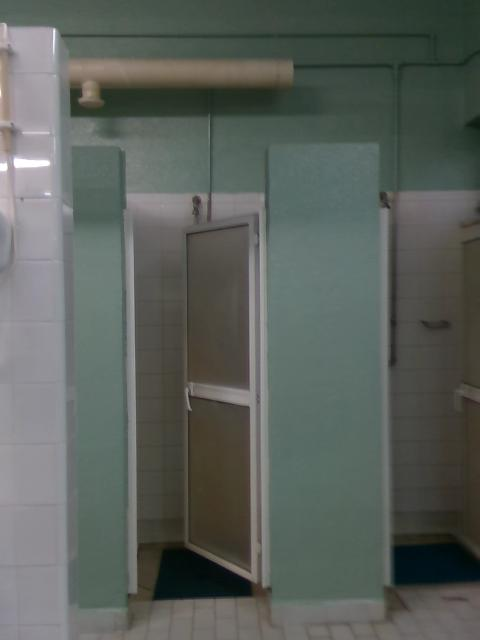door: (184, 213, 259, 582), (452, 224, 480, 557)
